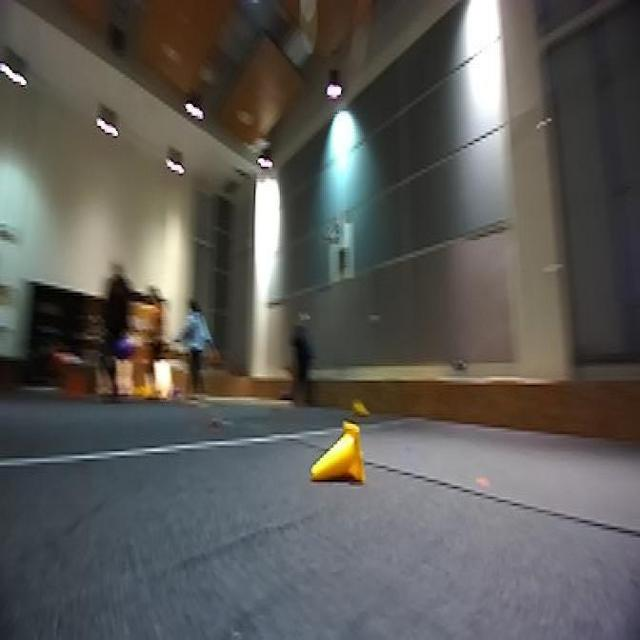frc_cone: (314, 422, 369, 494), (348, 394, 373, 421)
frc_cube: (113, 332, 137, 362)
